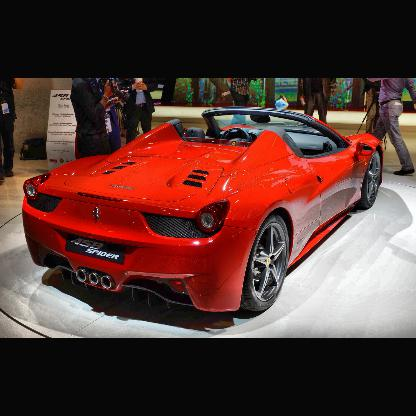Ferrari 458 Italia Convertible 2012: (23, 107, 382, 312)
